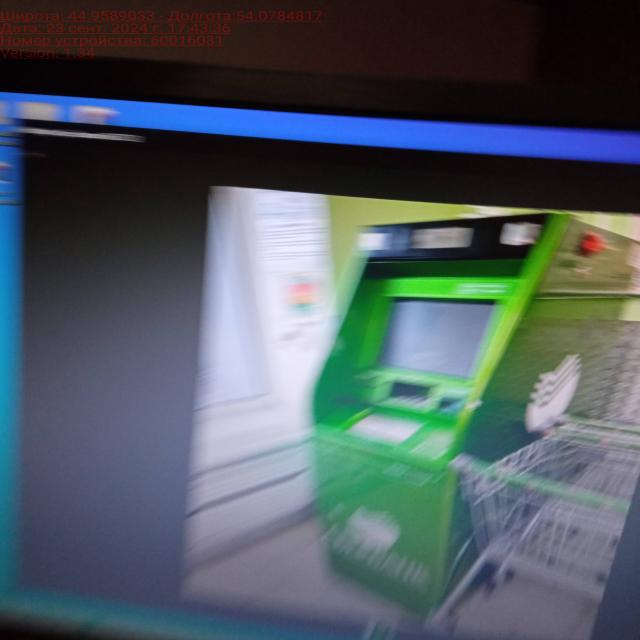bank: (306, 218, 640, 614)
